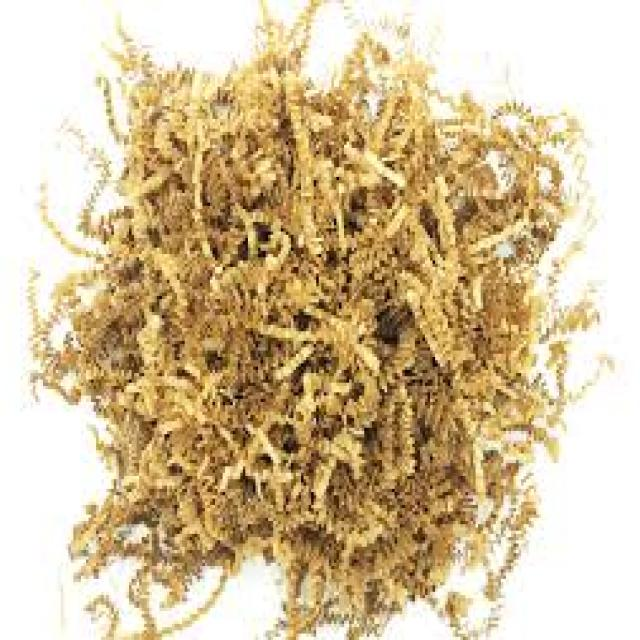paper: (28, 0, 610, 637)
